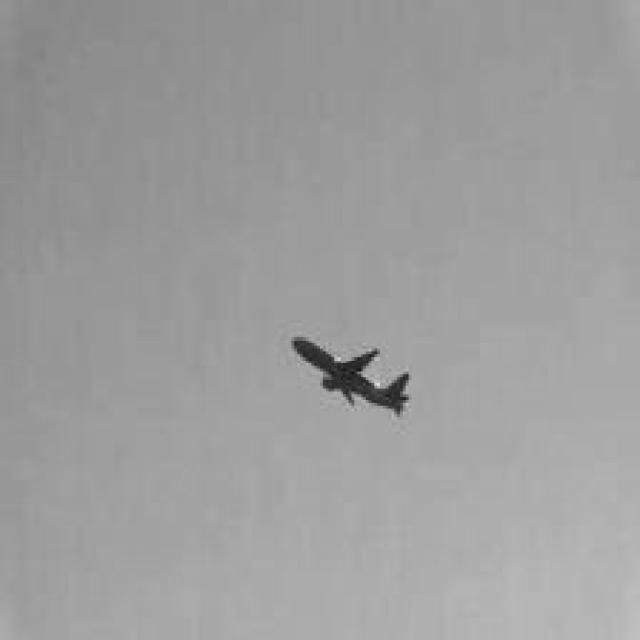aeroplane: (289, 328, 414, 423)
